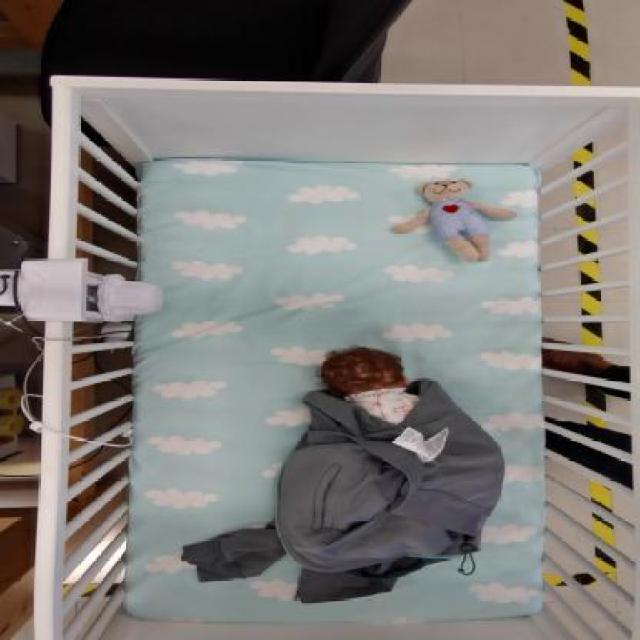baby: (278, 344, 504, 574)
